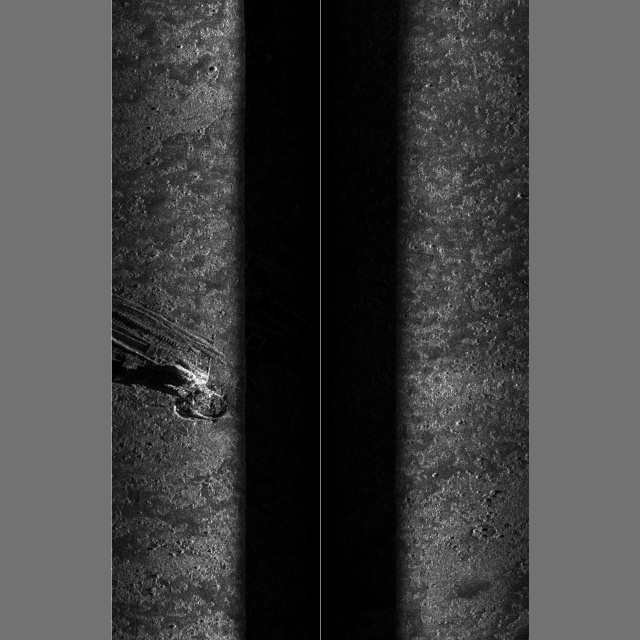Shipwreck: (111, 293, 233, 422)
